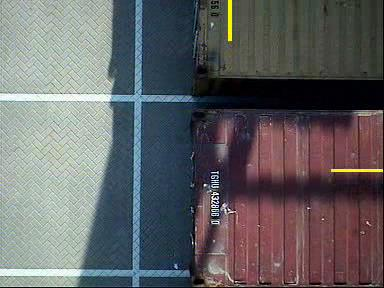groundmarker_2: (79, 178, 142, 215)
